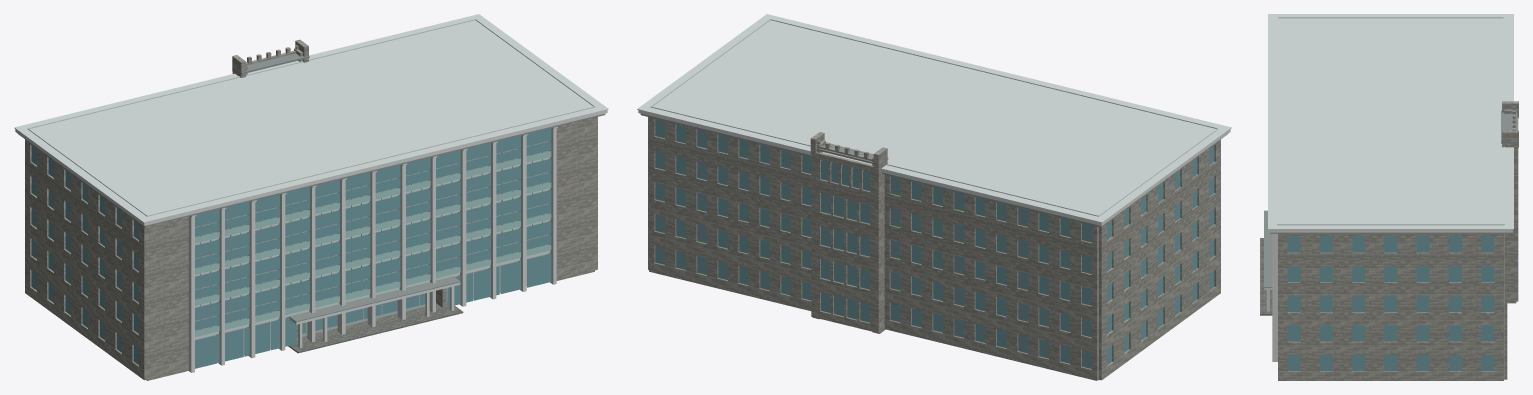
3 renders of one model, left to right at view 1: azimuth 30°, elevation 25°; view 2: azimuth 150°, elevation 25°; view 3: azimuth 270°, elevation 25°, orthographic. The views are drawn at different scales.
Visible parts, largest first — view 1: businessMain__light, businessMain__glass, businessMain__stone, businessMain__cream, businessMain__glass_spandrel, businessMain__roof, businessMain__rough, businessMain__frame; view 2: businessMain__stone, businessMain__light, businessMain__glass, businessMain__cream, businessMain__roof; view 3: businessMain__light, businessMain__stone, businessMain__glass, businessMain__cream, businessMain__roof, businessMain__rough.
Boxes of the visible parts, bbox=[...] form: businessMain__light: bbox=[14, 14, 608, 362]; businessMain__glass: bbox=[31, 128, 551, 368]; businessMain__stone: bbox=[25, 39, 597, 380]; businessMain__cream: bbox=[15, 110, 607, 372]; businessMain__glass_spandrel: bbox=[195, 151, 551, 337]; businessMain__roof: bbox=[18, 53, 605, 354]; businessMain__rough: bbox=[288, 301, 463, 353]; businessMain__frame: bbox=[200, 142, 542, 354]; businessMain__stone: bbox=[648, 117, 1220, 380]; businessMain__light: bbox=[637, 14, 1231, 222]; businessMain__glass: bbox=[655, 119, 1214, 368]; businessMain__cream: bbox=[638, 110, 1230, 380]; businessMain__roof: bbox=[640, 113, 1227, 227]; businessMain__light: bbox=[1268, 14, 1513, 229]; businessMain__stone: bbox=[1278, 101, 1518, 380]; businessMain__glass: bbox=[1287, 236, 1494, 371]; businessMain__cream: bbox=[1264, 229, 1512, 379]; businessMain__roof: bbox=[1264, 110, 1517, 287]; businessMain__rough: bbox=[1260, 238, 1272, 315].
Size of the model in its own units: 62.72 by 23.2 by 31.93.
8 materials, 2 textured.
